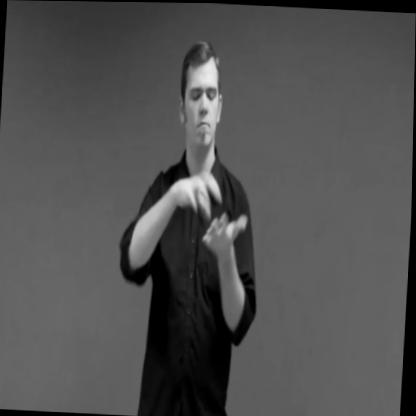Expensive: (160, 131, 254, 293)
